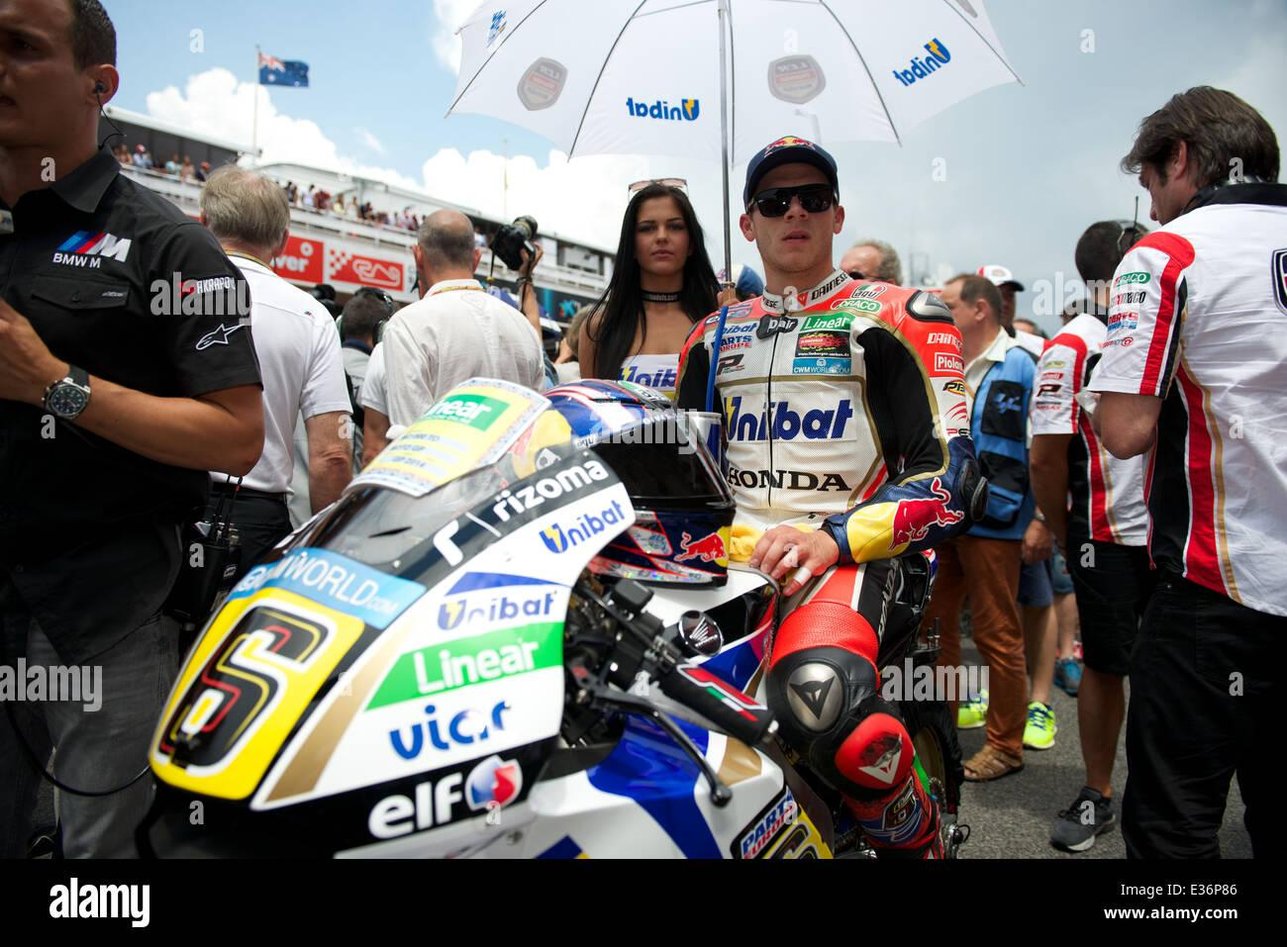nohelmet: (1130, 81, 1282, 241), (0, 0, 124, 170), (741, 134, 847, 283), (195, 162, 292, 282), (613, 176, 709, 294), (413, 205, 484, 300)
